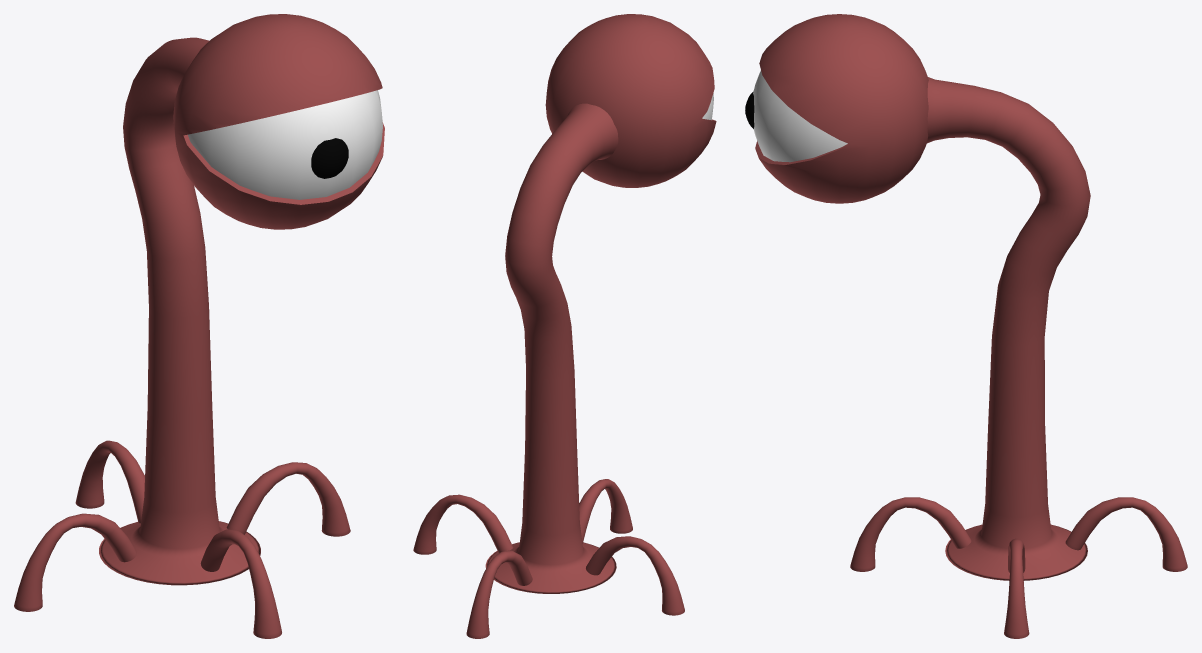
The model's file is EyeTurret.fbx.
3 renders of one model, left to right at view 1: azimuth 30°, elevation 25°; view 2: azimuth 150°, elevation 25°; view 3: azimuth 270°, elevation 25°, orthographic. The views are drawn at different scales.
Visible parts, largest first — view 1: pCylinder1, polySurface1, pSphere1, pCylinder3, pCylinder4, pCylinder5, pCylinder2, pSphere2; view 2: pCylinder1, polySurface1, pCylinder3, pCylinder4, pCylinder2, pCylinder5; view 3: pCylinder1, polySurface1, pSphere1, pCylinder2, pCylinder5, pCylinder4.
Part boxes in pixels (left/top/right/bottom): pCylinder1: left=99, top=37, right=260, bottom=585; polySurface1: left=173, top=14, right=384, bottom=229; pSphere1: left=188, top=90, right=382, bottom=199; pCylinder3: left=14, top=513, right=136, bottom=611; pCylinder4: left=226, top=462, right=350, bottom=536; pCylinder5: left=200, top=529, right=281, bottom=638; pCylinder2: left=75, top=440, right=144, bottom=523; pSphere2: left=311, top=138, right=348, bottom=178; pCylinder1: left=485, top=103, right=618, bottom=593; polySurface1: left=545, top=14, right=716, bottom=187; pCylinder3: left=586, top=536, right=684, bottom=615; pCylinder4: left=413, top=494, right=513, bottom=554; pCylinder2: left=466, top=550, right=532, bottom=638; pCylinder5: left=579, top=479, right=632, bottom=543; pCylinder1: left=927, top=77, right=1090, bottom=580; polySurface1: left=755, top=14, right=928, bottom=203; pSphere1: left=753, top=70, right=847, bottom=162; pCylinder2: left=1065, top=497, right=1187, bottom=571; pCylinder5: left=850, top=497, right=971, bottom=571; pCylinder4: left=1004, top=538, right=1029, bottom=638.
Bounding box in the file's own units: 4.8 × 8.53 × 6.29.
